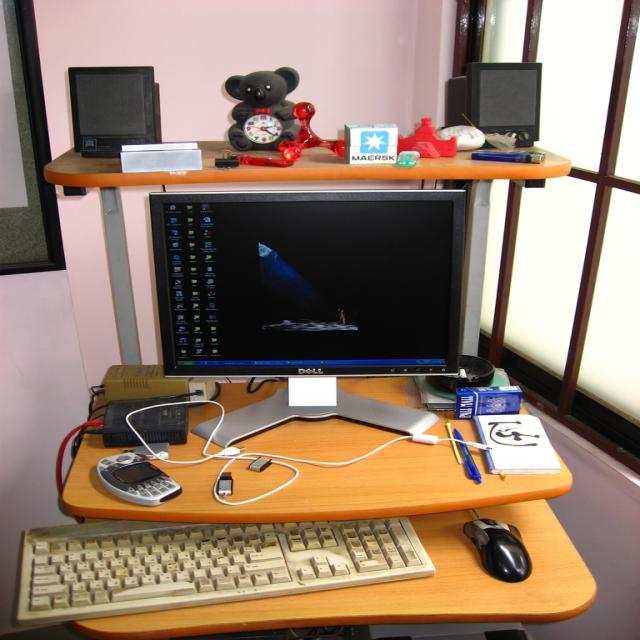Computer-mouse: (462, 516, 534, 584)
